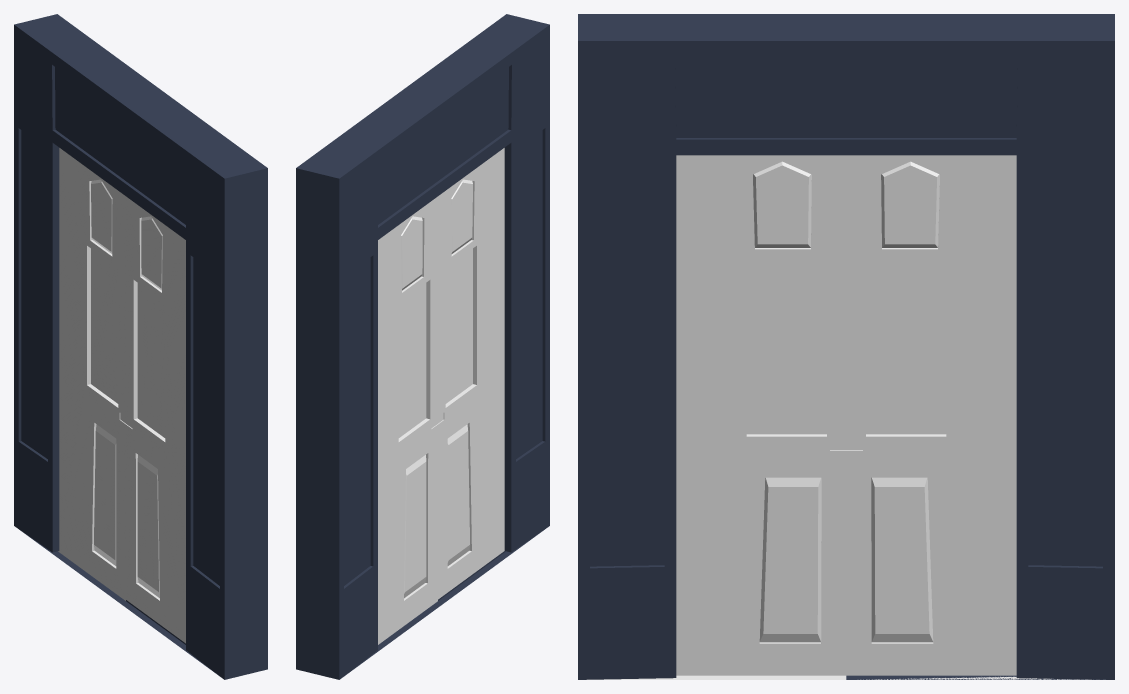
Rendered from assetDoor.fbx.
The picture shows the model from 3 angles, left to right: view 1: azimuth 30°, elevation 25°; view 2: azimuth 150°, elevation 25°; view 3: azimuth 270°, elevation 25°; orthographic projection. The views are drawn at different scales.
Visible parts, largest first — view 1: Cube; view 2: Cube; view 3: Cube.
Boxes of the visible parts, x1,y1,x2,y2 form: Cube: (14, 14, 267, 679); Cube: (296, 14, 549, 679); Cube: (578, 14, 1114, 679).
Size of the model in its own units: 95.08 by 1051 by 800.
